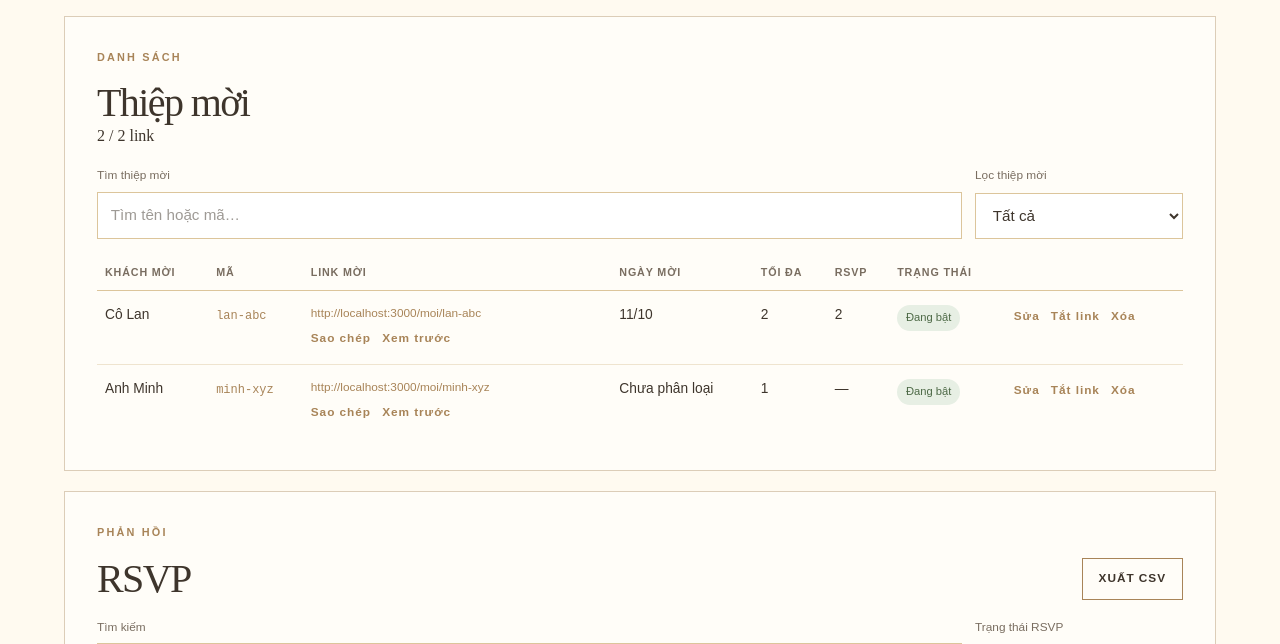
Test: AdminDashboard › deletes an invitation after an RSVP-aware confirmation
This screenshot has width=1280, height=644.
(page scrolled)
What coordinates should you click on to do the following:
click the button with aria-label "Xóa link của Cô Lan"
I would click on:
 (1123, 317)
Its box is x1=1111 y1=305 x2=1136 y2=329.
(page scrolled)
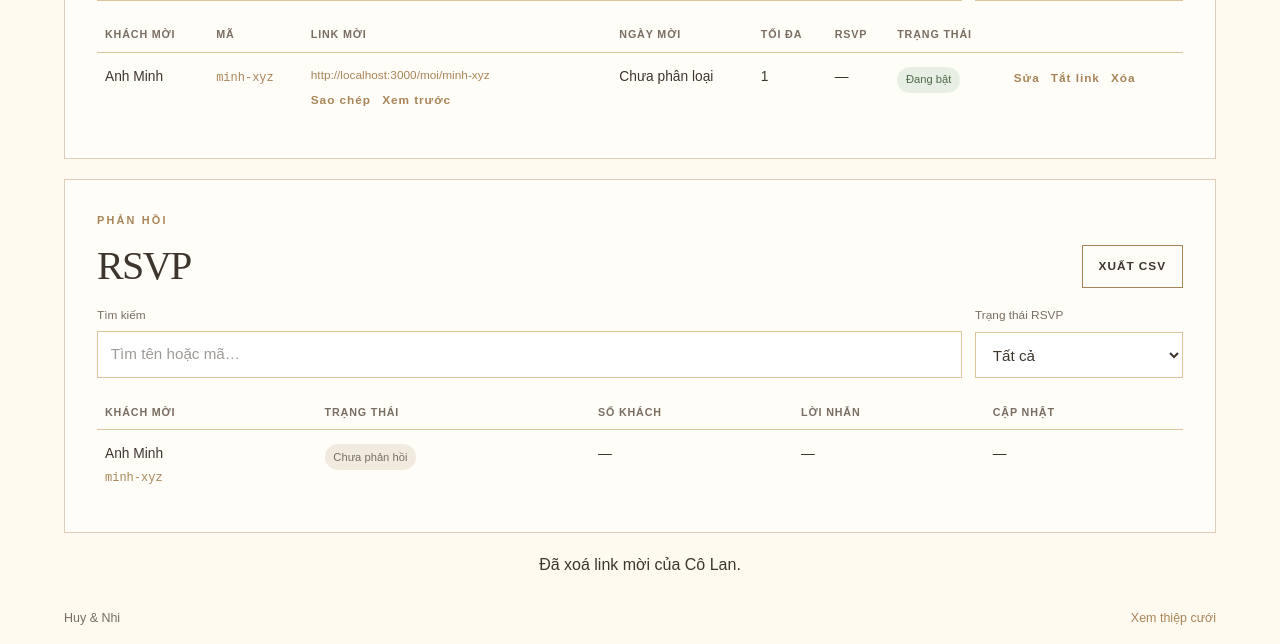
Expected: the text "Đã xoá link mời của Cô Lan." is shown, x1=539 y1=556 x2=741 y2=573
Expected: the link "http://localhost:3000/moi/lan-abc" is gone
